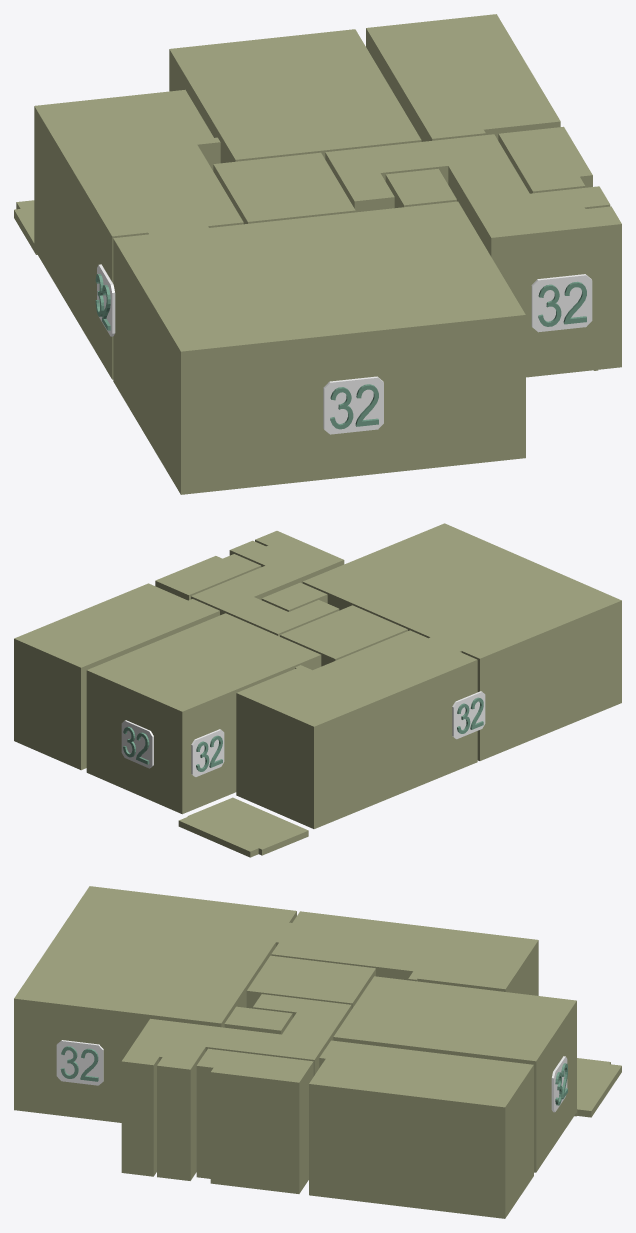
3 renders of one model, top to bottom at view 1: azimuth 30°, elevation 25°; view 2: azimuth 150°, elevation 25°; view 3: azimuth 270°, elevation 25°, orthographic. The views are drawn at different scales.
Parts seen in each view (by area): view 1: g_1, g_0, g_7, g_3, g_4, g_2, g_5, g_26, g_11, g_6, g_8; view 2: g_1, g_0, g_3, g_4, g_7, g_8, g_2, g_5, g_6, g_23, g_17, g_20; view 3: g_1, g_4, g_3, g_7, g_5, g_0, g_2, g_8, g_14, g_6.
Boxes of the visible parts, box(x1,y1,x2,y2) form: g_1: box(113, 201, 525, 494); g_0: box(34, 89, 243, 379); g_7: box(325, 134, 621, 377); g_3: box(169, 29, 421, 163); g_4: box(366, 14, 560, 141); g_2: box(213, 152, 355, 224); g_5: box(498, 126, 592, 193); g_26: box(531, 274, 592, 332); g_11: box(323, 376, 383, 434); g_6: box(385, 168, 456, 207); g_8: box(14, 200, 37, 254); g_1: box(302, 523, 621, 760); g_0: box(236, 630, 477, 828); g_3: box(86, 613, 321, 814); g_4: box(14, 583, 219, 770); g_7: box(191, 531, 344, 636); g_8: box(178, 797, 308, 857); g_2: box(280, 605, 407, 666); g_5: box(155, 554, 261, 600); g_6: box(261, 582, 327, 611); g_23: box(452, 691, 485, 739); g_17: box(191, 729, 224, 776); g_20: box(121, 720, 153, 768); g_1: box(14, 886, 296, 1122); g_4: box(309, 1040, 533, 1218); g_3: box(333, 976, 576, 1172); g_7: box(121, 994, 351, 1180); g_5: box(196, 1048, 313, 1193); g_0: box(271, 911, 538, 995); g_2: box(246, 955, 375, 1009); g_8: box(574, 1058, 621, 1117); g_14: box(56, 1040, 103, 1085); g_6: box(224, 1006, 292, 1034).
Bounding box in the file's own units: 10.96 × 2.74 × 12.73.
